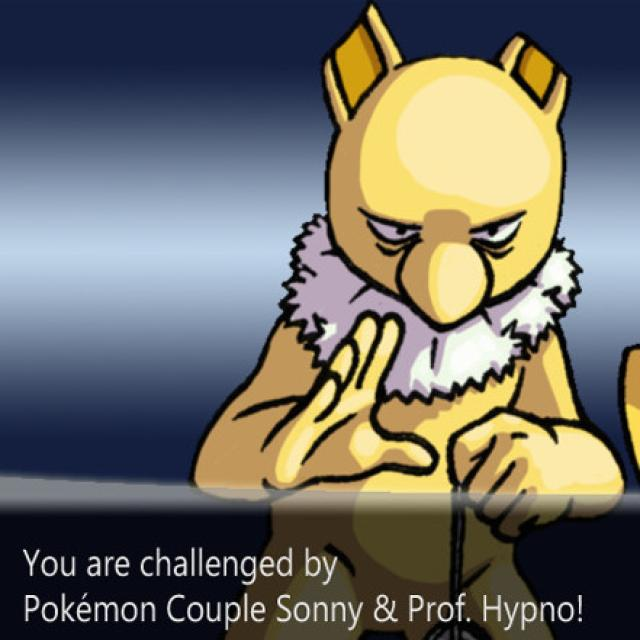Hypno: (228, 41, 628, 538)
